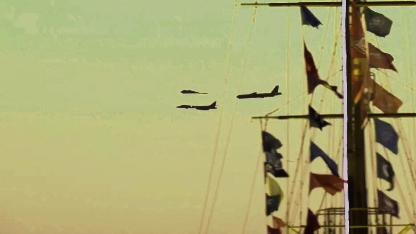AV8B: (177, 100, 219, 110)
B1: (180, 89, 208, 93)
B2: (237, 84, 283, 98)
